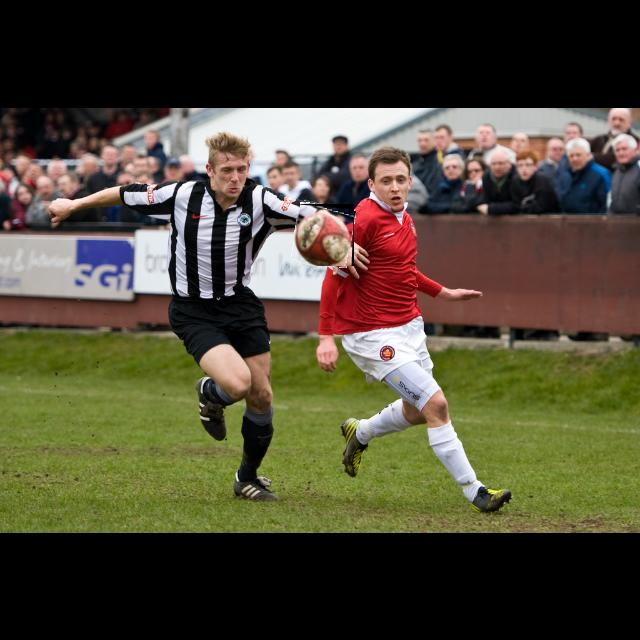Football: (294, 204, 354, 266)
